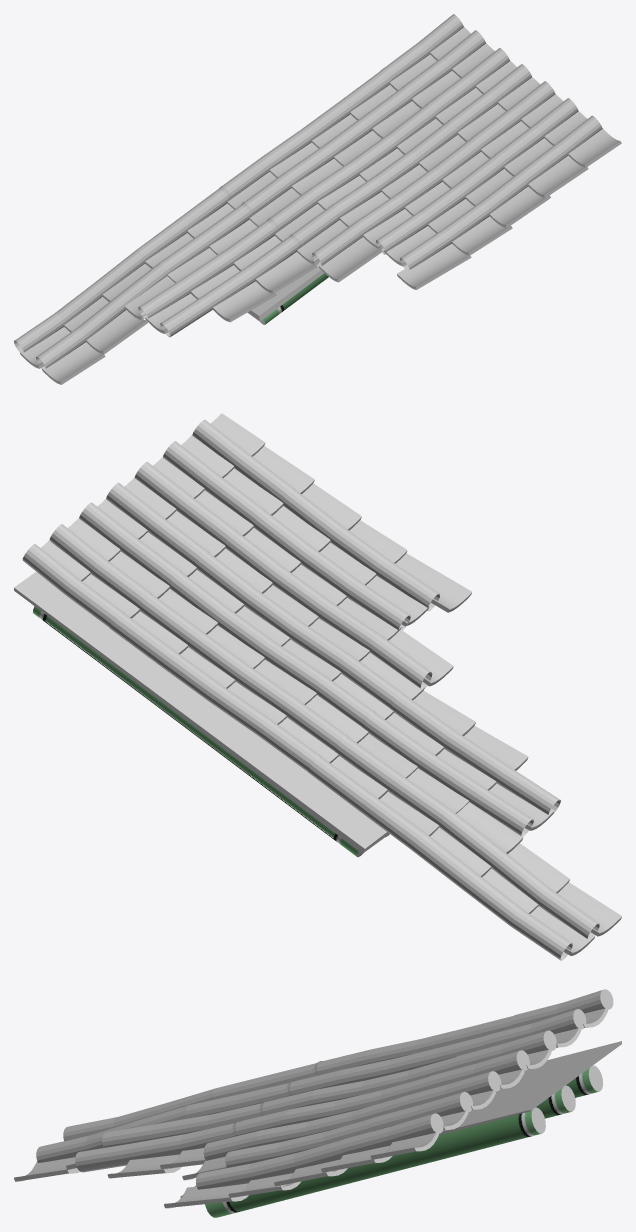
The model's file is SM_R_RoofCornerCut_7.fbx.
3 views of the same model, one above another, from view 1: azimuth 30°, elevation 25°; view 2: azimuth 150°, elevation 25°; view 3: azimuth 330°, elevation 25° (orthographic). The views are drawn at different scales.
Parts seen in each view (by area): view 1: SM_R_RoofCornerCut_7_LOD0; view 2: SM_R_RoofCornerCut_7_LOD0; view 3: SM_R_RoofCornerCut_7_LOD0.
Boxes of the visible parts, box(x1,y1,x2,y2) form: SM_R_RoofCornerCut_7_LOD0: box(14, 14, 621, 384); SM_R_RoofCornerCut_7_LOD0: box(14, 413, 621, 960); SM_R_RoofCornerCut_7_LOD0: box(14, 989, 621, 1217).
Size of the model in its own units: 460 by 288 by 228.
